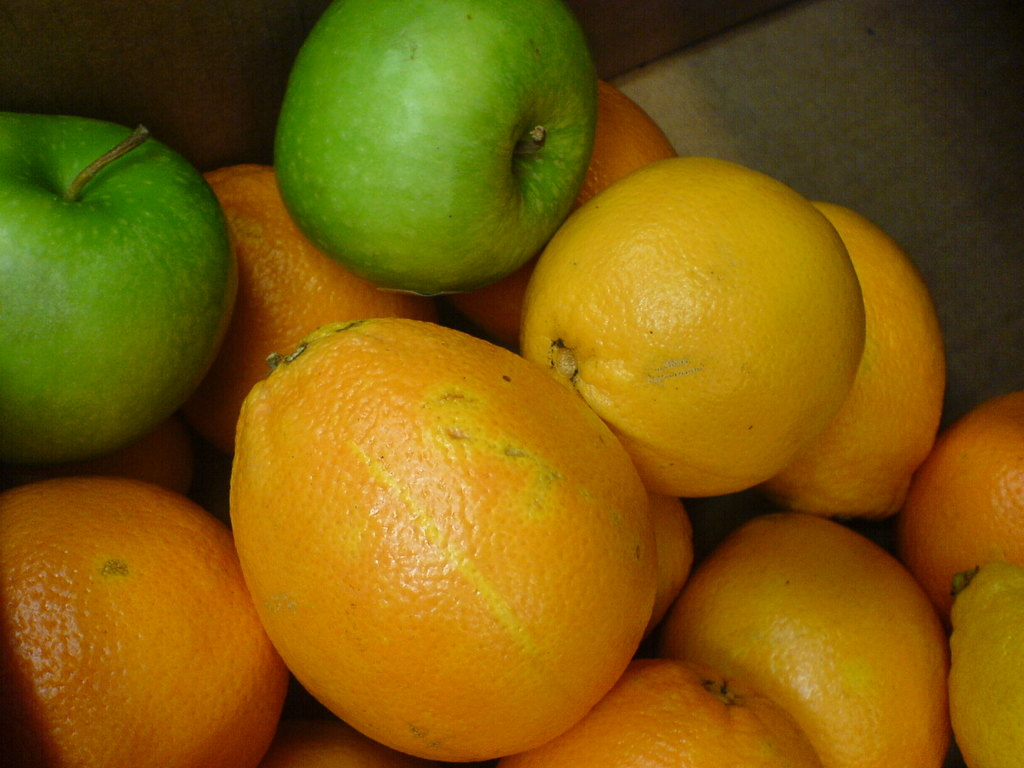Apple: (273, 0, 597, 296), (0, 110, 238, 465)
